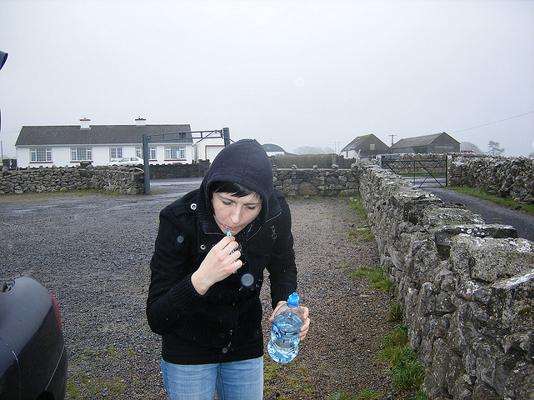person: (148, 139, 313, 400)
